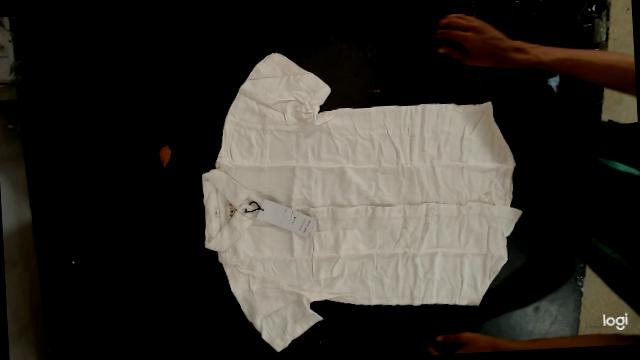new-garment: (201, 53, 521, 350)
